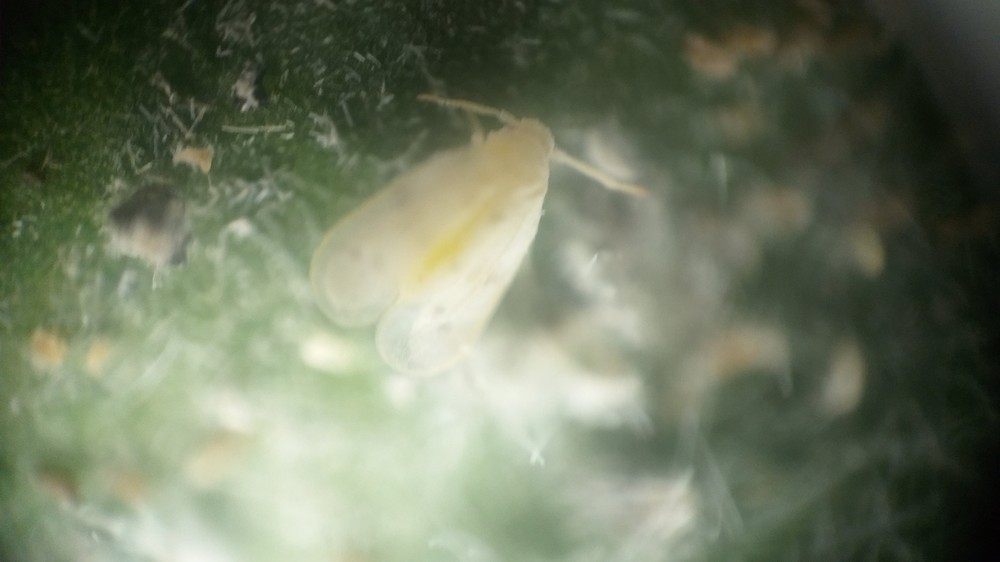Mosca Blanca: (285, 75, 683, 404)
